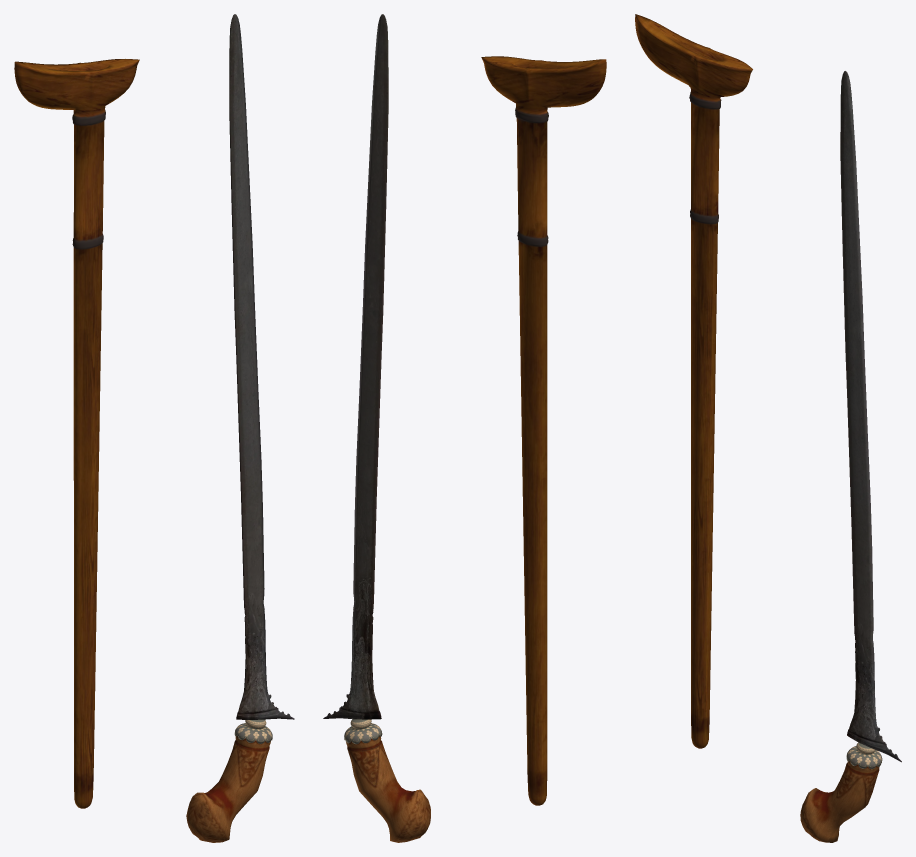
Rendered from mkn03_low.glb.
3 renders of one model, left to right at view 1: azimuth 30°, elevation 25°; view 2: azimuth 150°, elevation 25°; view 3: azimuth 330°, elevation 25°, orthographic. The views are drawn at different scales.
Parts seen in each view (by area): view 1: mkn03_Salang; view 2: mkn03_Salang; view 3: mkn03_Salang.
Boxes of the visible parts, x1,y1,x2,y2 form: mkn03_Salang: (14, 14, 294, 842); mkn03_Salang: (323, 14, 606, 842); mkn03_Salang: (635, 14, 901, 842).
Size of the model in its own units: 0.8418 by 2.37 by 0.1266.
Materials: 1 (1 with a texture image).
